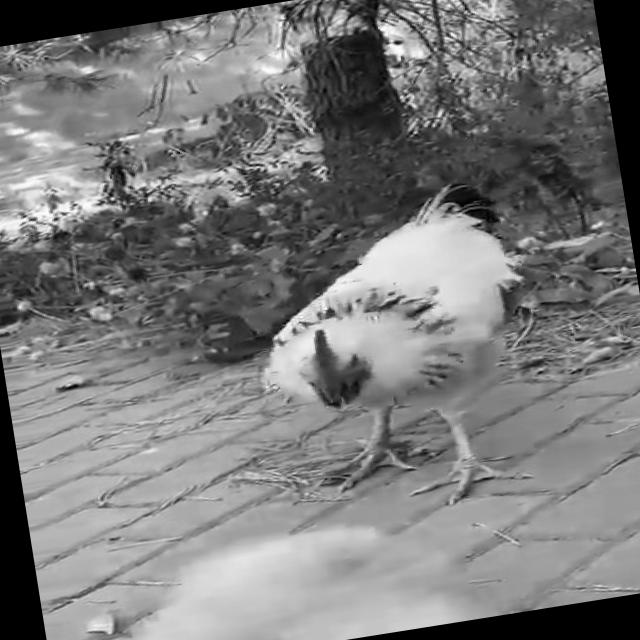walking: (214, 166, 588, 544)
